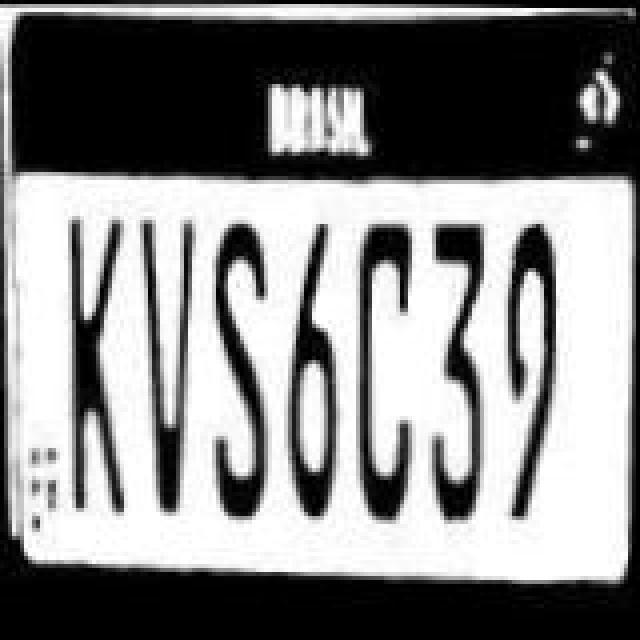3: (424, 220, 496, 524)
6: (284, 232, 348, 528)
9: (492, 212, 564, 528)
C: (342, 220, 426, 520)
K: (60, 214, 140, 510)
S: (204, 222, 284, 522)
V: (136, 228, 208, 516)
